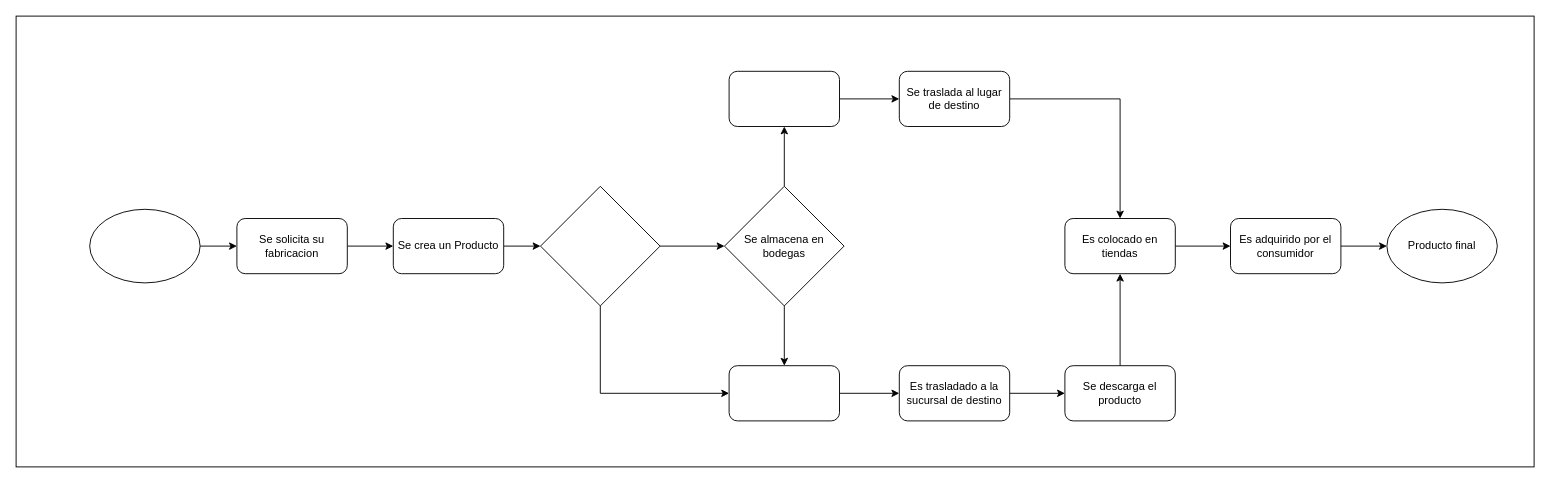
Image size: 1550x483. Some labels were removed from this diagram. The centre of each missing label's shape, as x and y in pixels:
"Es debidamente empacado" goes at point 600,245.
"Es retirado por el solicitante" goes at point 784,98.
"Producto inicio" goes at point 144,245.
"Se carga el producto al método de transporte" goes at point 784,393.
